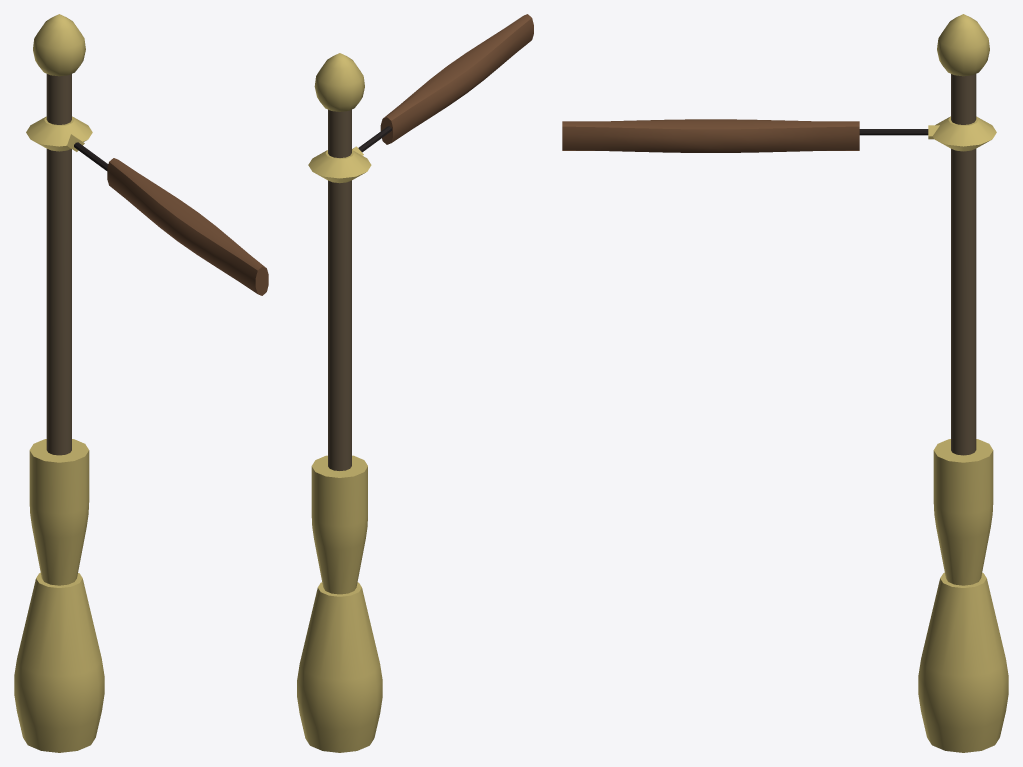
Rendered from trap_rotateclub.fbx.
3 views of the same model, side by side, from view 1: azimuth 30°, elevation 25°; view 2: azimuth 150°, elevation 25°; view 3: azimuth 270°, elevation 25° (orthographic). The views are drawn at different scales.
Visible parts, largest first — view 1: trap_rotate_base, trap_rotate_pole, pCube196; view 2: trap_rotate_base, trap_rotate_pole, pCube196; view 3: trap_rotate_base, trap_rotate_pole, pCube196.
Part boxes in pixels (left/top/right/bottom): trap_rotate_base: left=14, top=439, right=104, bottom=752; trap_rotate_pole: left=26, top=14, right=92, bottom=455; pCube196: left=107, top=158, right=268, bottom=295; trap_rotate_base: left=297, top=455, right=382, bottom=752; trap_rotate_pole: left=308, top=53, right=371, bottom=470; pCube196: left=380, top=14, right=533, bottom=144; trap_rotate_base: left=918, top=439, right=1008, bottom=752; trap_rotate_pole: left=928, top=14, right=996, bottom=455; pCube196: left=562, top=119, right=859, bottom=152.
Bounding box in the file's own units: 0.7682 × 6.78 × 3.79.
